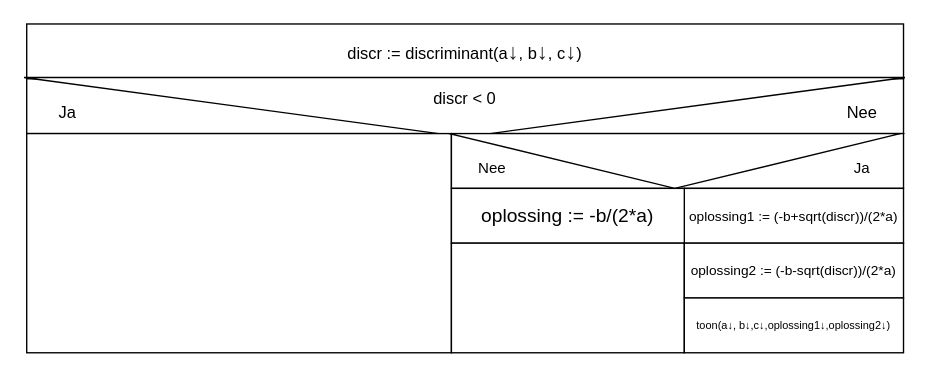
This 929x377 diagram has some shape labels left out. The shapes that lost their labels are listed below. From the top down, each one's centre as x and y in pixels, then its label:
point (674, 160): discr == 0
point (238, 242): toon(a ↓, b ↓, c ↓)
point (567, 297): toon(a ↓, b ↓, c ↓, oplossing ↓)
